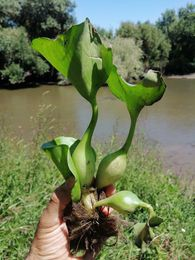water_hyacinth: (35, 13, 171, 248)
